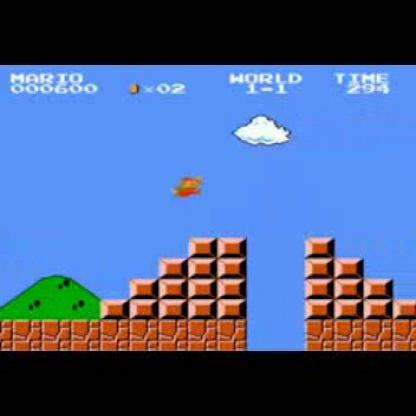Hoyo: (242, 318, 309, 349)
